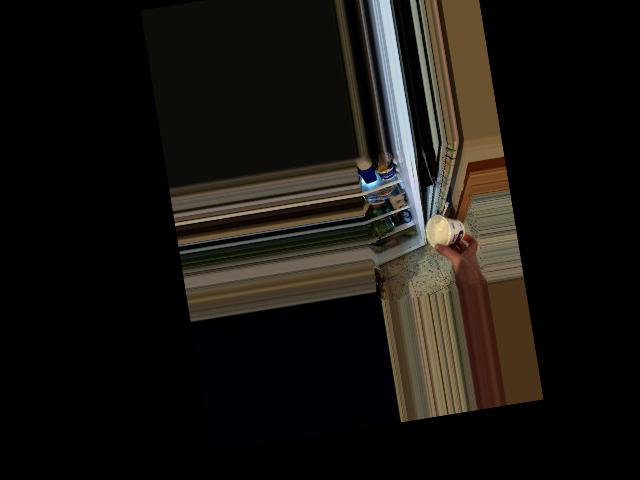cotage: (423, 214, 465, 250)
